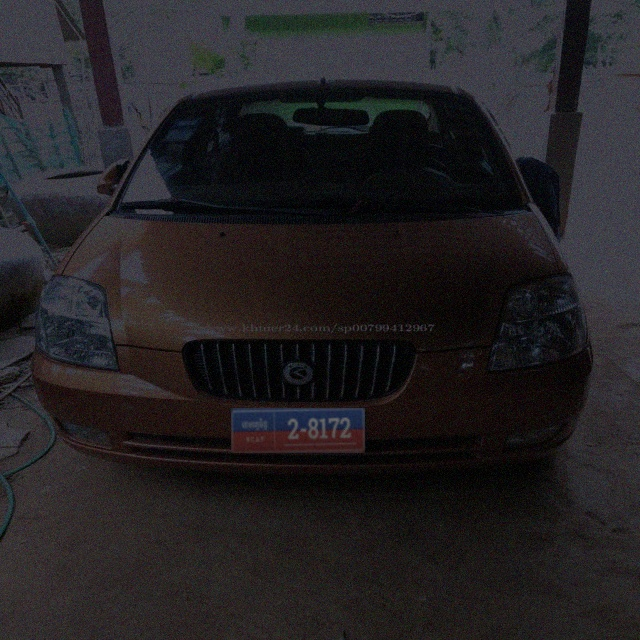Plate Number: (232, 408, 365, 454)
